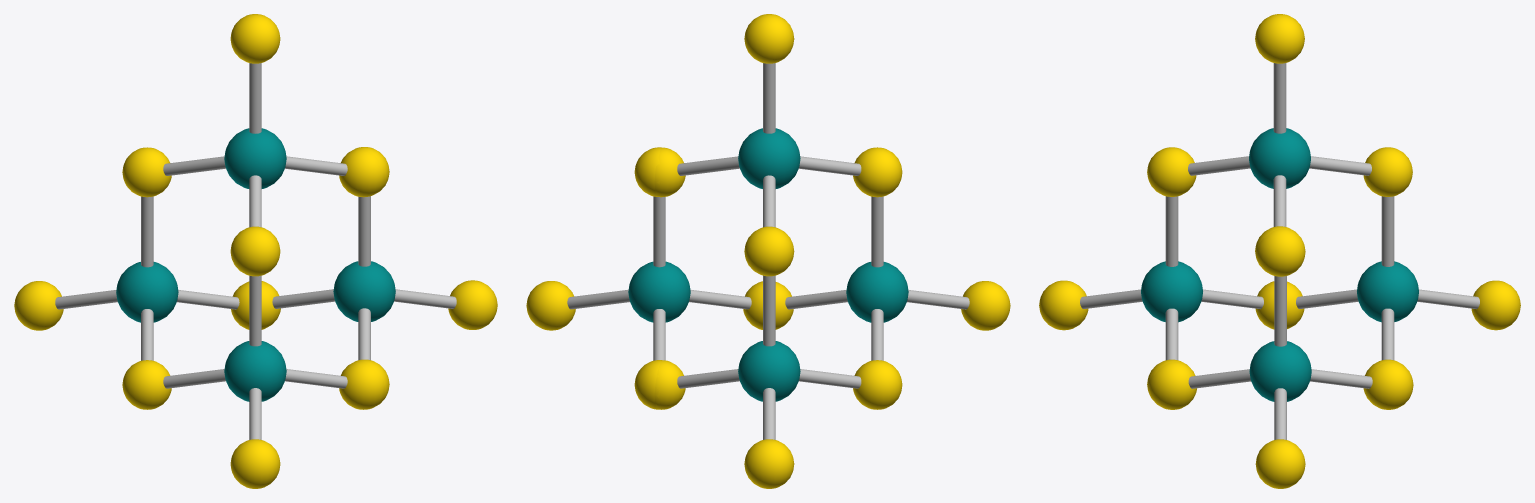
File: cristal2.gltf
The picture shows the model from 3 angles, left to right: view 1: azimuth 30°, elevation 25°; view 2: azimuth 150°, elevation 25°; view 3: azimuth 270°, elevation 25°; orthographic projection.
Visible parts, largest first — view 1: Sphere-24 (×10), Component#3 (×16), Sphere-24#1 (×4); view 2: Sphere-24 (×13), Component#3 (×16), Sphere-24#1 (×4); view 3: Sphere-24 (×10), Component#3 (×16), Sphere-24#1 (×4).
Part boxes in pixels (left/top/right/bottom): Sphere-24 (×10): left=14, top=14, right=497, bottom=488; Component#3 (×16): left=55, top=63, right=456, bottom=439; Sphere-24#1 (×4): left=116, top=128, right=395, bottom=401; Sphere-24 (×13): left=526, top=14, right=1010, bottom=488; Component#3 (×16): left=567, top=63, right=969, bottom=439; Sphere-24#1 (×4): left=628, top=128, right=908, bottom=401; Sphere-24 (×10): left=1039, top=14, right=1520, bottom=488; Component#3 (×16): left=1080, top=63, right=1479, bottom=439; Sphere-24#1 (×4): left=1141, top=128, right=1418, bottom=401.
Bounding box in the file's own units: 0.3412 × 0.3225 × 0.3864.
